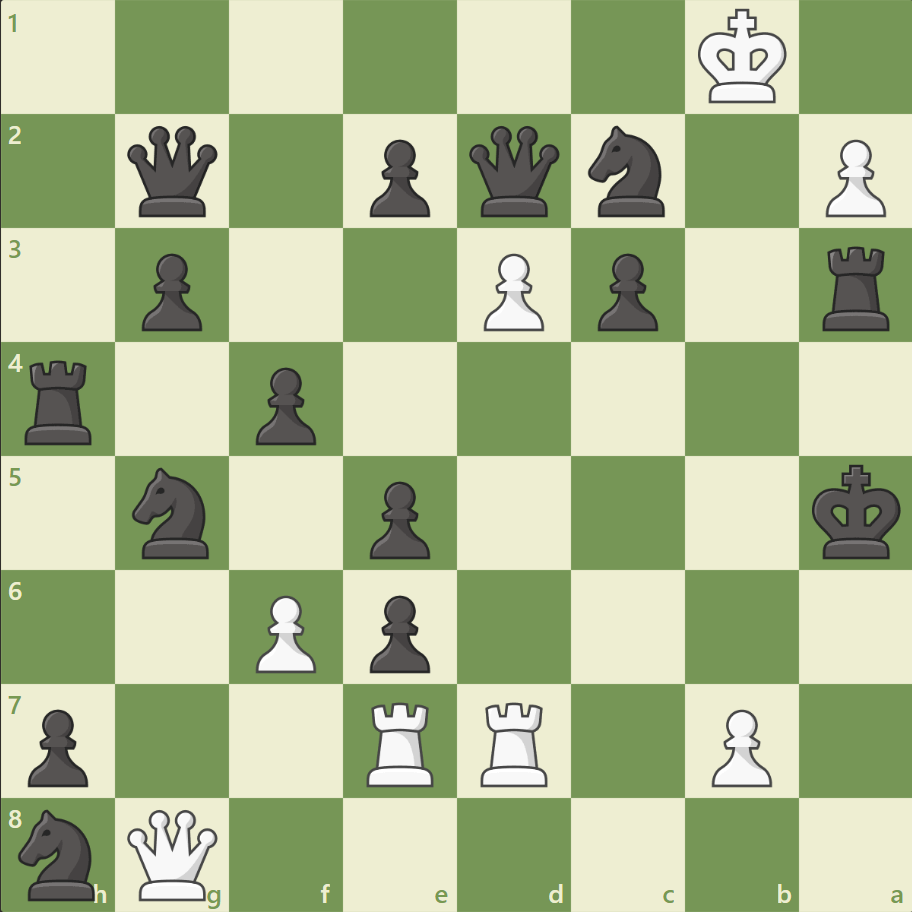K: (692, 4, 792, 112)
P: (701, 700, 776, 791), (247, 586, 322, 677), (474, 246, 549, 337), (815, 132, 889, 223)
Q: (124, 804, 223, 903)
R: (473, 693, 556, 790), (360, 693, 442, 790)
k: (806, 458, 906, 566)
n: (124, 461, 222, 564), (11, 802, 108, 904), (579, 121, 676, 223)
p: (20, 700, 95, 791), (247, 359, 322, 450), (133, 246, 208, 337), (361, 586, 435, 677), (361, 473, 435, 564), (588, 246, 662, 337), (361, 132, 435, 223)
q: (464, 122, 563, 222), (124, 122, 223, 222)
r: (19, 352, 102, 449), (814, 239, 897, 336)
